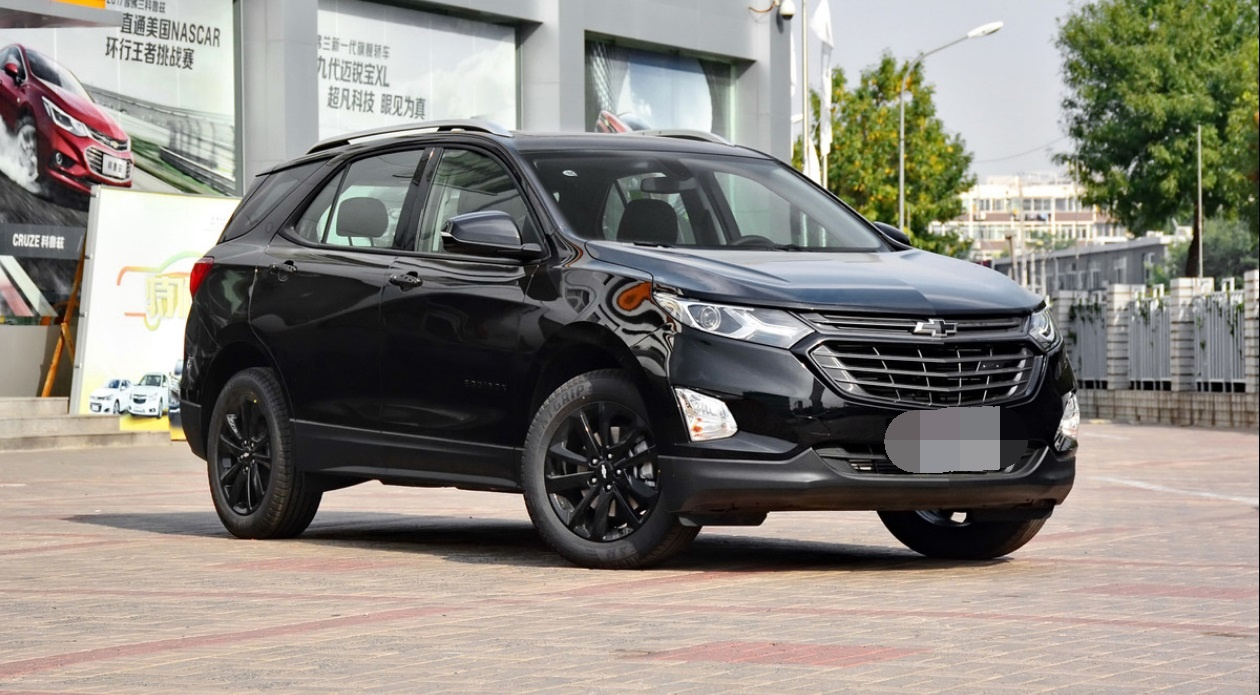SUV: (177, 106, 1089, 587)
